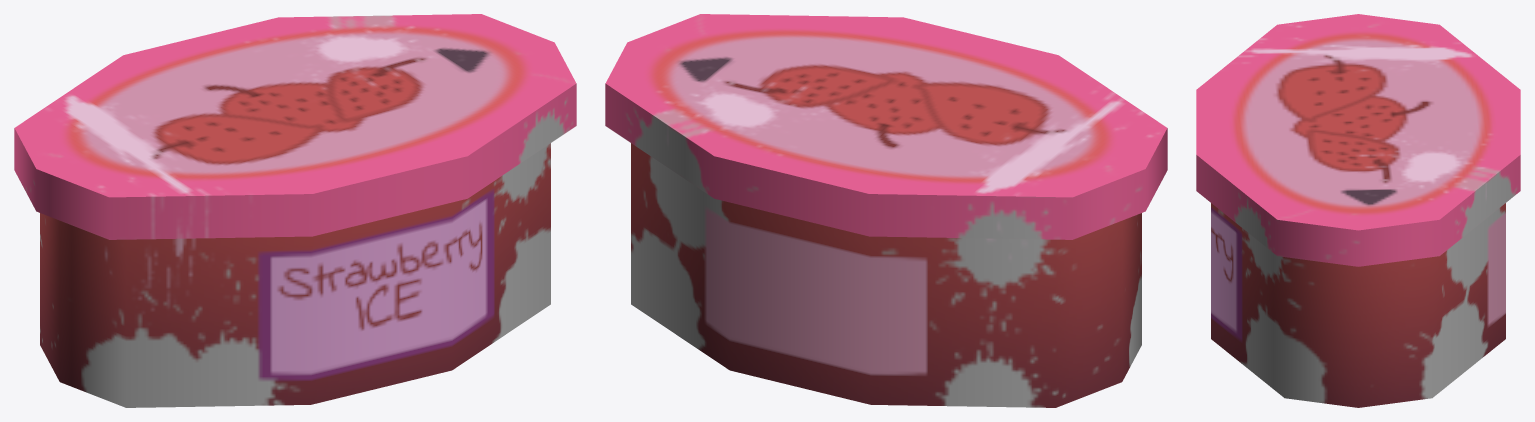
The model's file is Icecream_01.fbx.
The picture shows the model from 3 angles, left to right: view 1: azimuth 30°, elevation 25°; view 2: azimuth 150°, elevation 25°; view 3: azimuth 270°, elevation 25°; orthographic projection. The views are drawn at different scales.
Parts seen in each view (by area): view 1: Icecream_01; view 2: Icecream_01; view 3: Icecream_01.
Part boxes in pixels (bbox=[...]): Icecream_01: bbox=[14, 14, 576, 407]; Icecream_01: bbox=[605, 14, 1167, 407]; Icecream_01: bbox=[1196, 14, 1520, 407].
Bounding box in the file's own units: 31.79 × 12.82 × 20.13.
